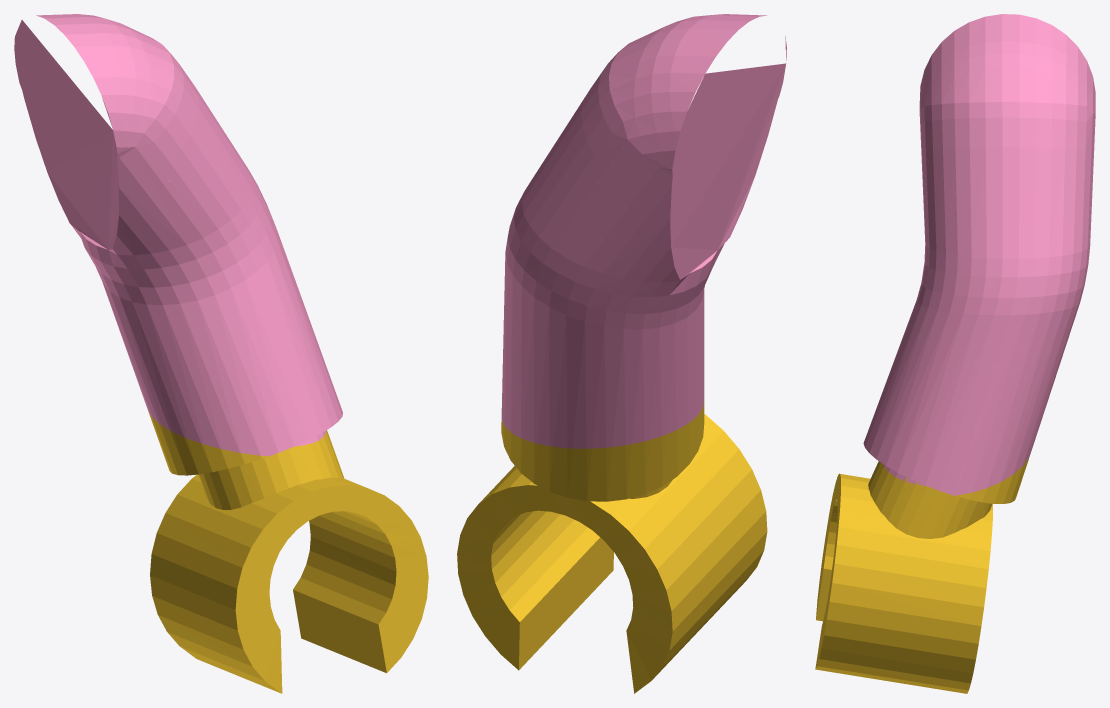
The model's file is armR.glb.
3 views of the same model, side by side, from view 1: azimuth 30°, elevation 25°; view 2: azimuth 150°, elevation 25°; view 3: azimuth 270°, elevation 25° (orthographic). The views are drawn at different scales.
Visible parts, largest first — view 1: lumi_armR; view 2: lumi_armR; view 3: lumi_armR.
Boxes of the visible parts, x1,y1,x2,y2 form: lumi_armR: (14,14,428,693); lumi_armR: (457,14,786,693); lumi_armR: (815,14,1095,693).
Size of the model in its own units: 0.325 by 0.7369 by 0.322.
